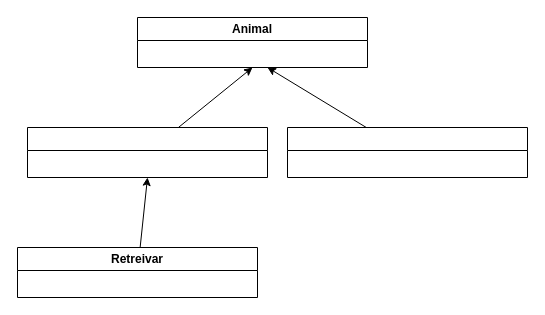
Image size: 545x315. Some labels were removed from this diagram. The centre of each missing label's shape, as x and y in pixels:
"Cat" goes at (x=407, y=152).
"Dog" goes at (x=147, y=152).
